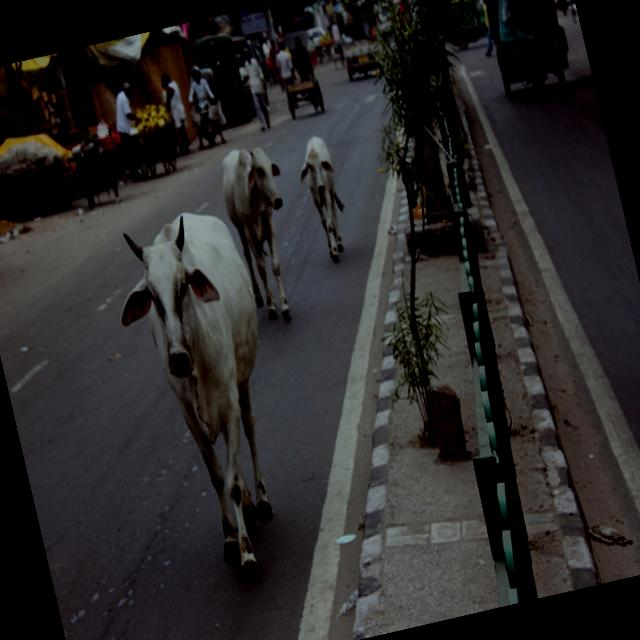Vehicle: (470, 0, 577, 103), (190, 32, 251, 127), (332, 0, 388, 79), (188, 94, 222, 148), (369, 0, 400, 45), (306, 25, 328, 49)
